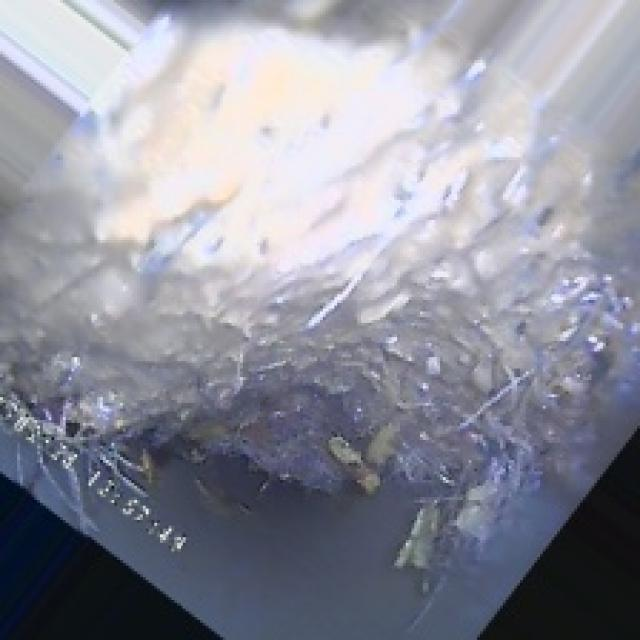sluge accumulation: (66, 74, 566, 457)
